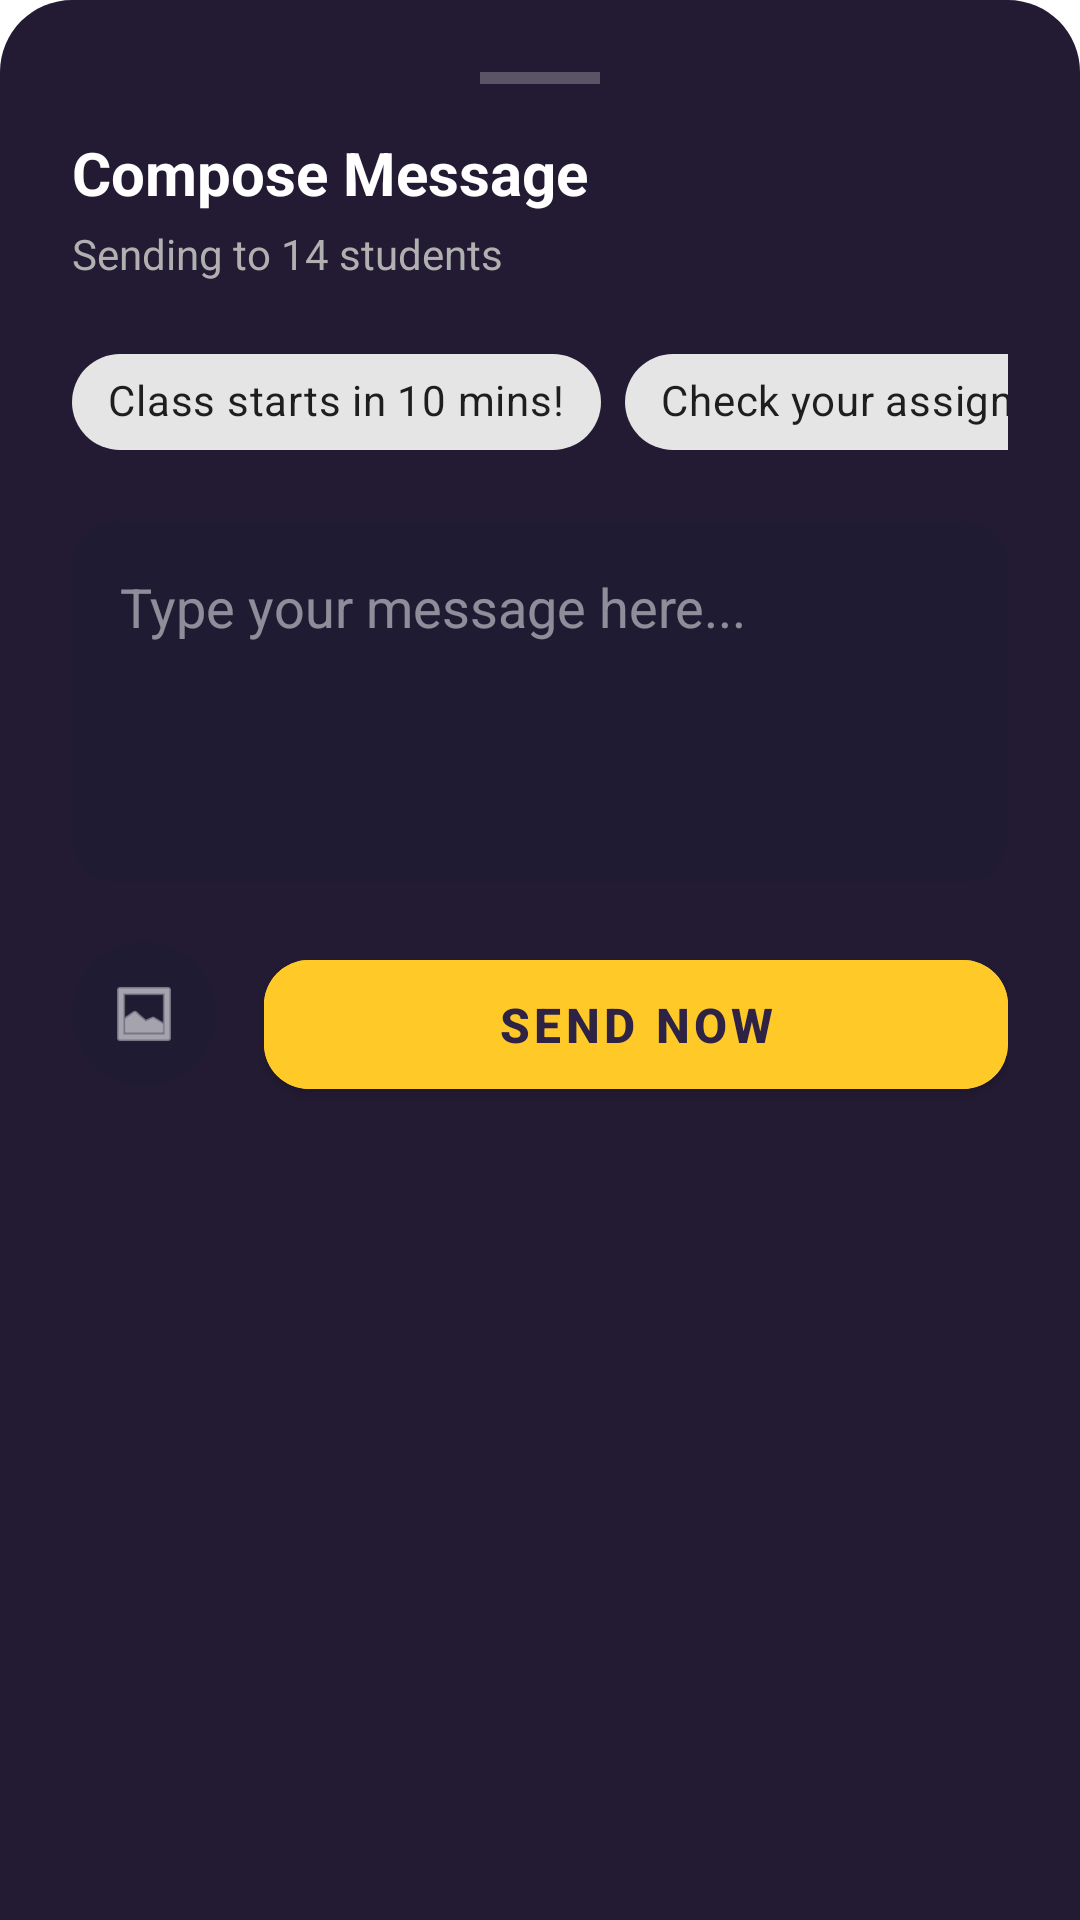

Icon click points for this 1080×1920 phone screenshot, format (x,y):
gallery: (144,1014)
